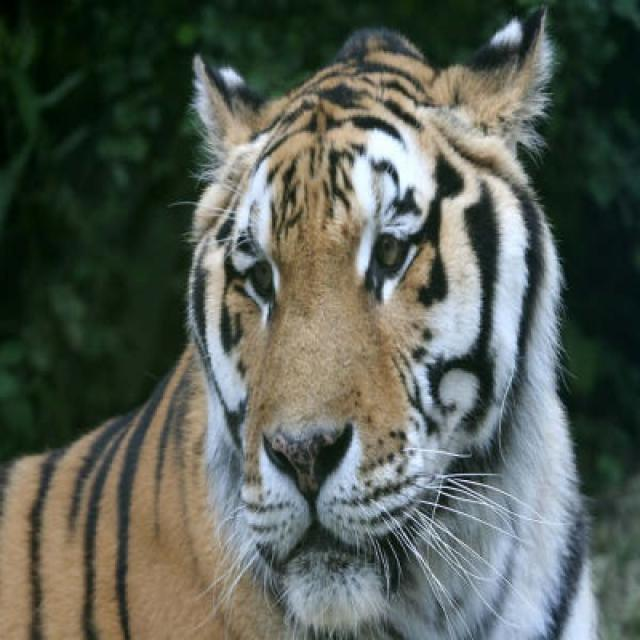Tiger: (0, 20, 598, 638)
